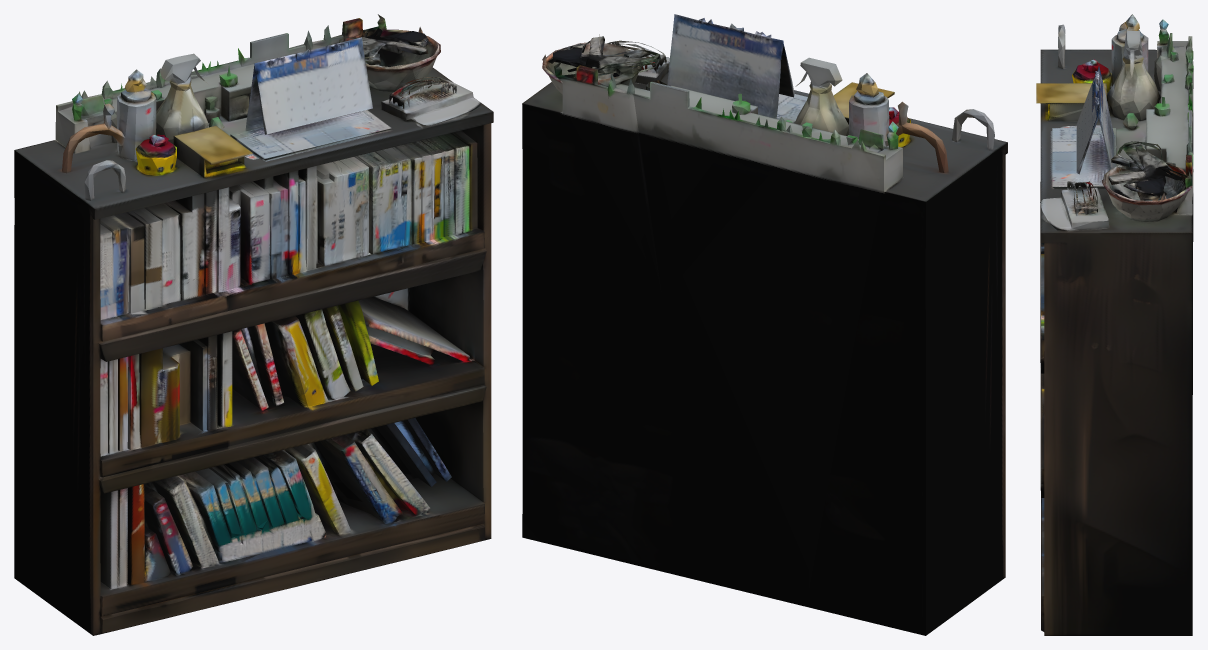
File: base_basic_book.glb
The picture shows the model from 3 angles, left to right: view 1: azimuth 30°, elevation 25°; view 2: azimuth 150°, elevation 25°; view 3: azimuth 270°, elevation 25°; orthographic projection. The views are drawn at different scales.
Parts seen in each view (by area): view 1: model.001; view 2: model.001; view 3: model.001.
Part boxes in pixels (x1,y1,x2,y2): model.001: (14, 14, 493, 635); model.001: (522, 14, 1007, 635); model.001: (1036, 14, 1193, 635).
Size of the model in its own units: 1.53 by 1.88 by 0.558.
2 materials, 2 textured.
